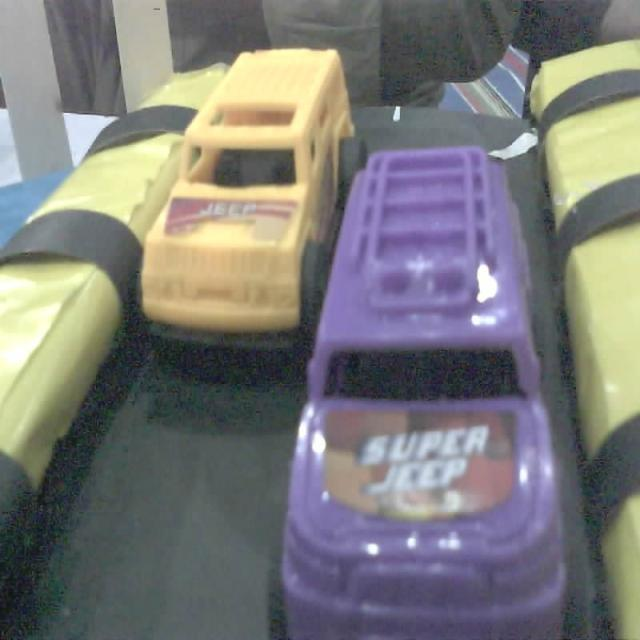TwoCar: (273, 148, 565, 639), (132, 42, 370, 359)
